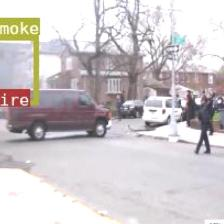smoke: (0, 35, 38, 104)
